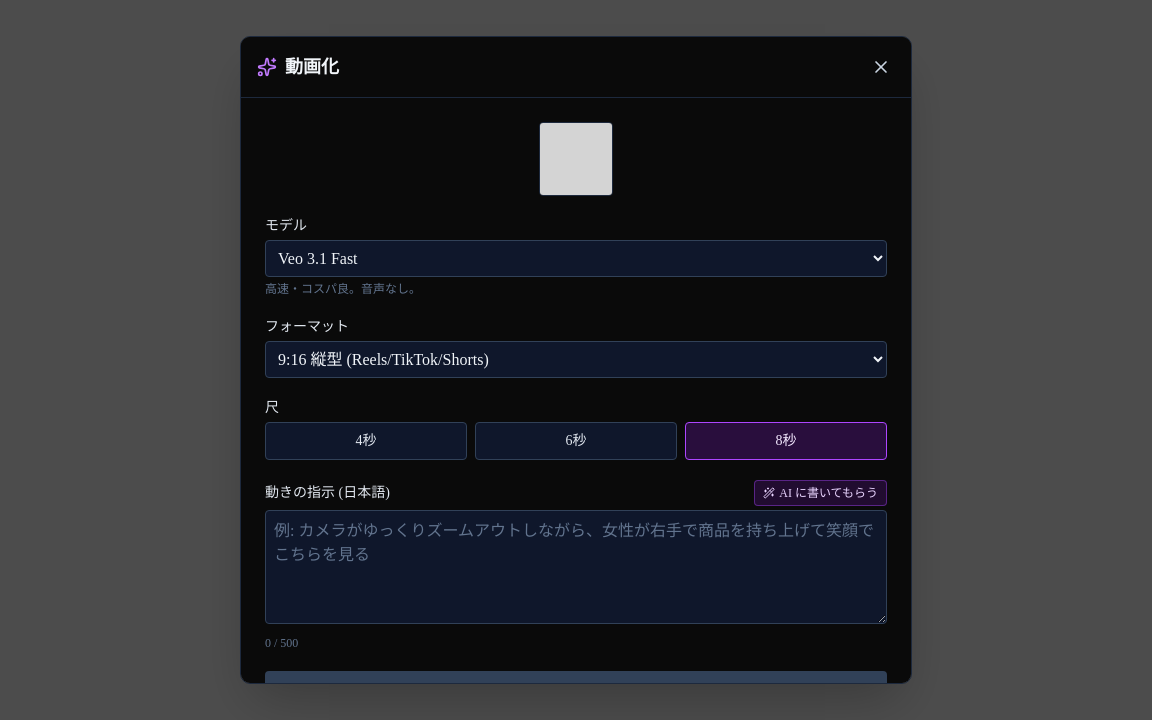
Test: 音声オプション › 非対応プロバイダへ移ると音声の選択は解除される
The image size is (1152, 720).
Select "Veo 3.1 Lite (音声+リップシンク)" in the dropdown showing "Veo 3.1 Fast" below "モデル": (576, 258) [265, 240, 887, 277]
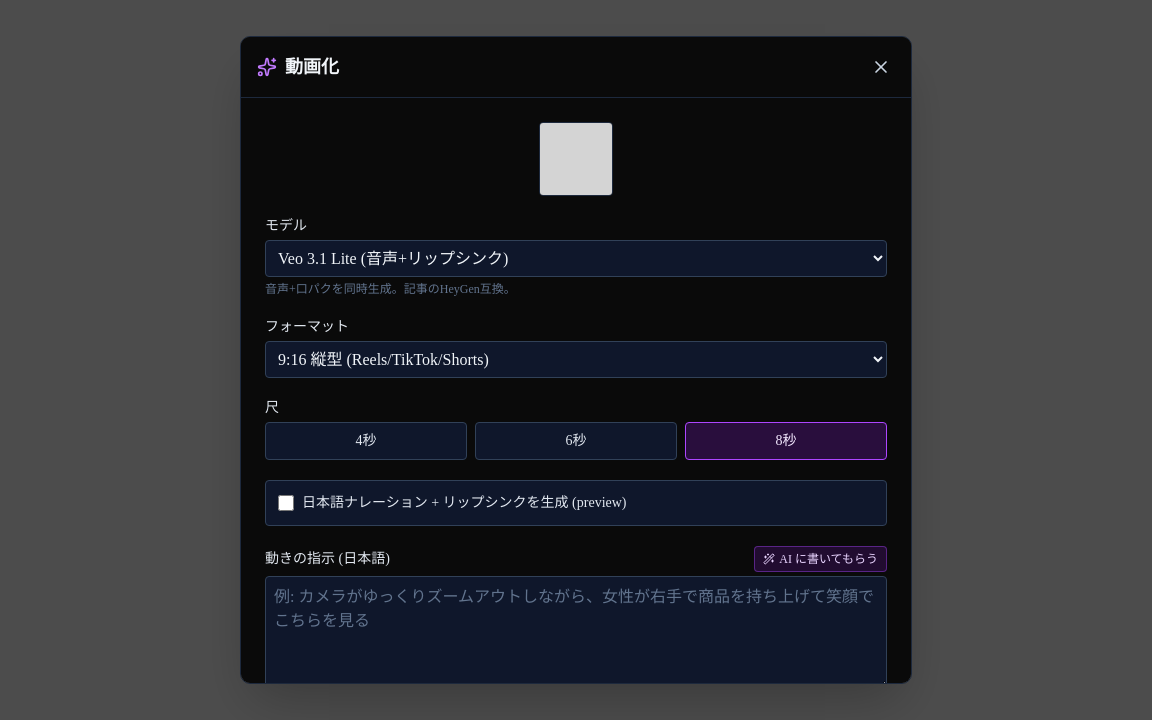
Click the checkbox: (286, 503) [278, 495, 294, 511]
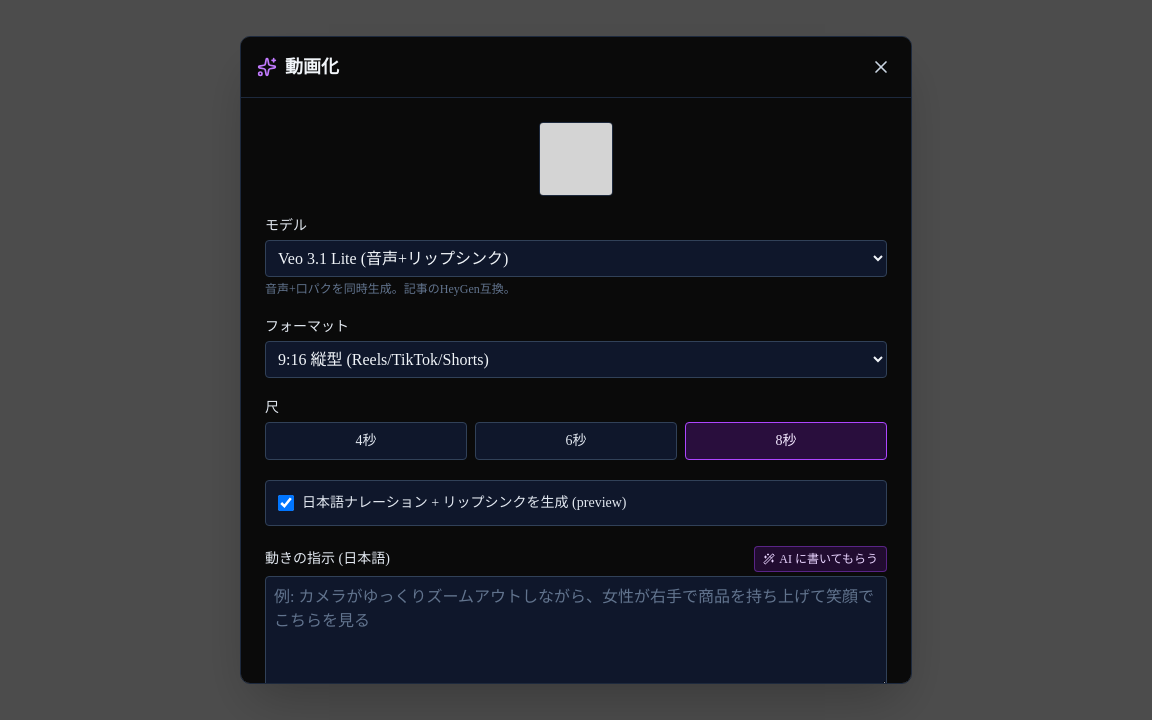
Check: the checkbox is checked, box [278, 495, 294, 511]
Select "Veo 3.1 Fast" in the dropdown below "モデル": (576, 258) [265, 240, 887, 277]
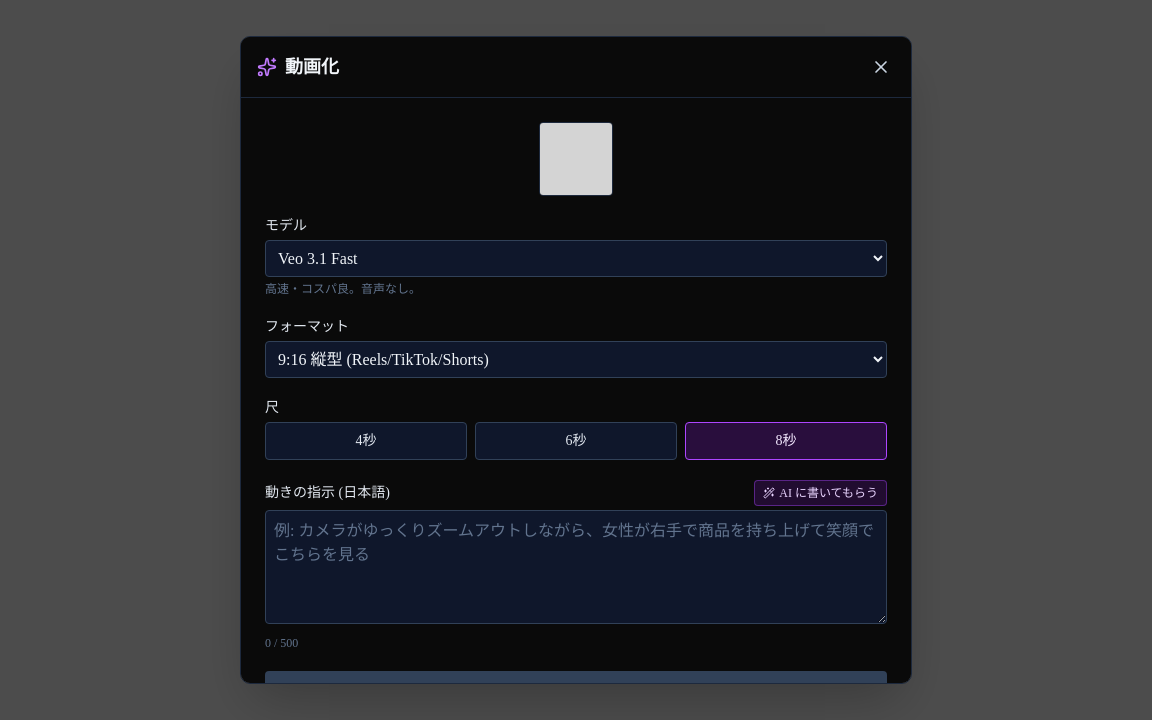
Select "Veo 3.1 Lite (音声+リップシンク)" in the dropdown below "モデル": (576, 258) [265, 240, 887, 277]
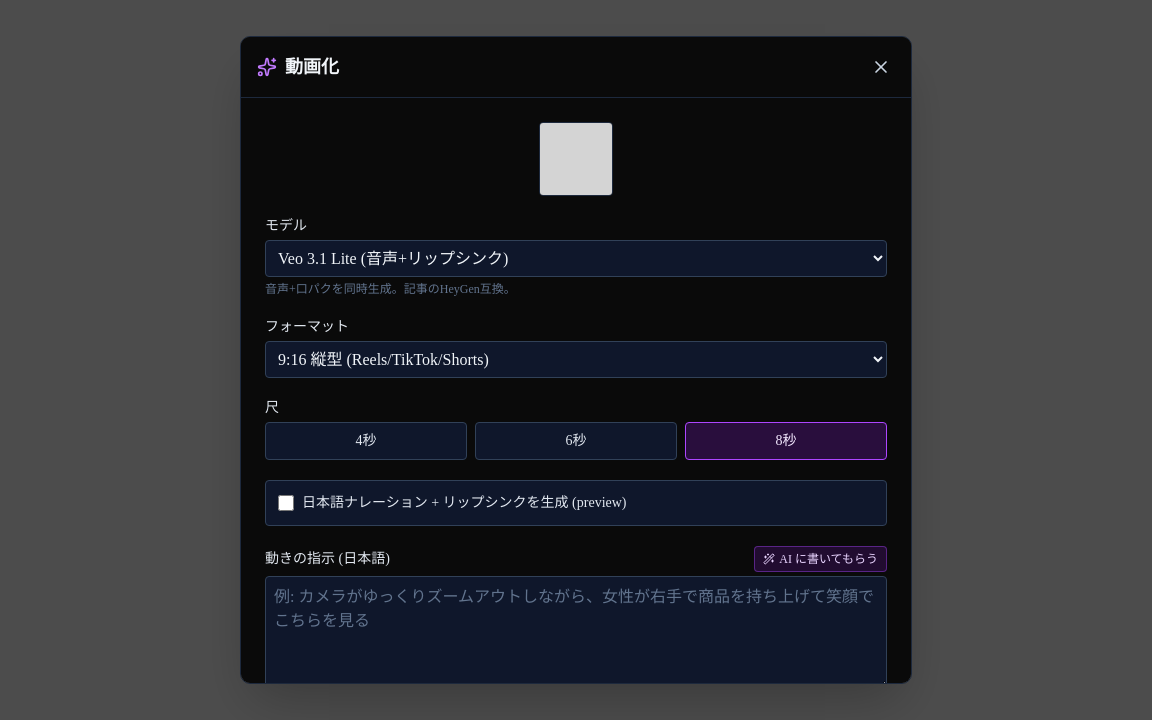
Check: the checkbox is not checked, box [278, 495, 294, 511]
